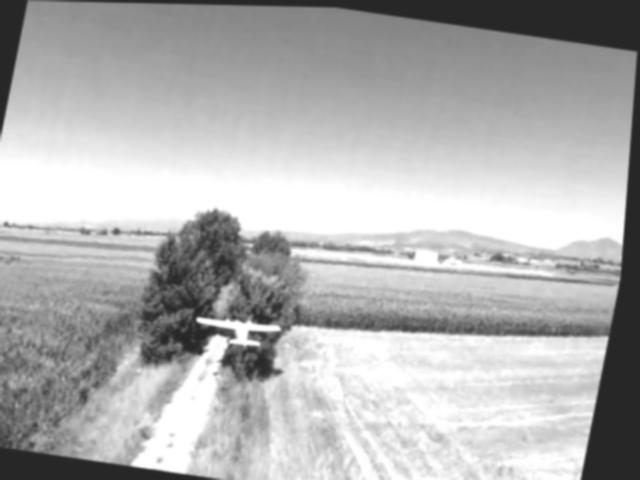hedef: (192, 299, 291, 357)
